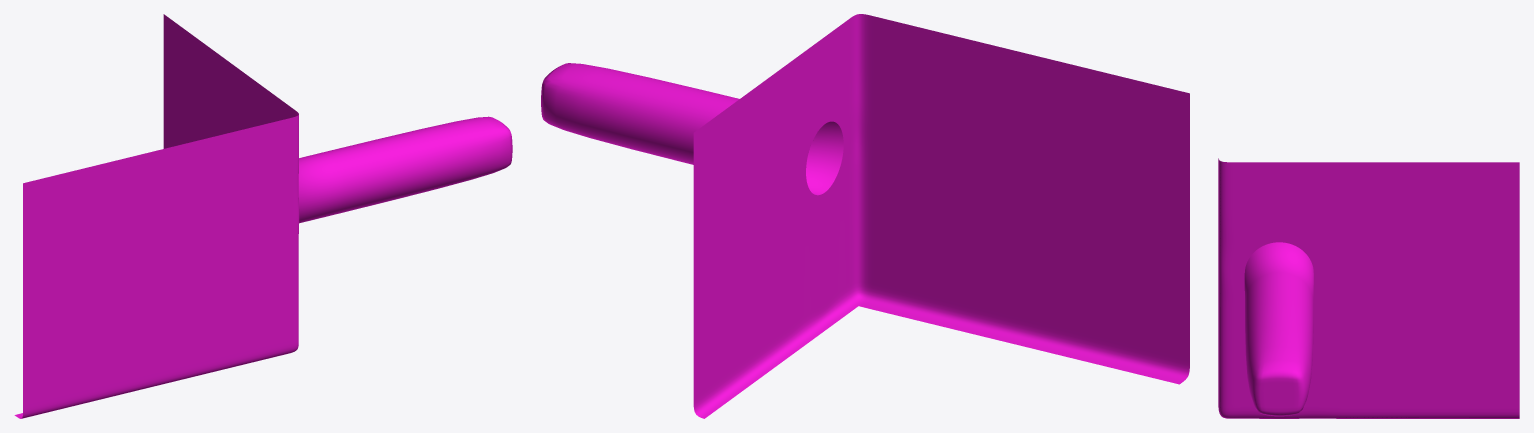
Rendered from level.glb.
3 views of the same model, side by side, from view 1: azimuth 30°, elevation 25°; view 2: azimuth 150°, elevation 25°; view 3: azimuth 270°, elevation 25° (orthographic). The views are drawn at different scales.
Visible parts, largest first — view 1: Cube; view 2: Cube; view 3: Cube.
Part boxes in pixels (x1,y1,x2,y2): Cube: (14, 14, 512, 418); Cube: (541, 14, 1189, 418); Cube: (1218, 158, 1519, 418).
Size of the model in its own units: 32.74 by 14.69 by 15.45.
